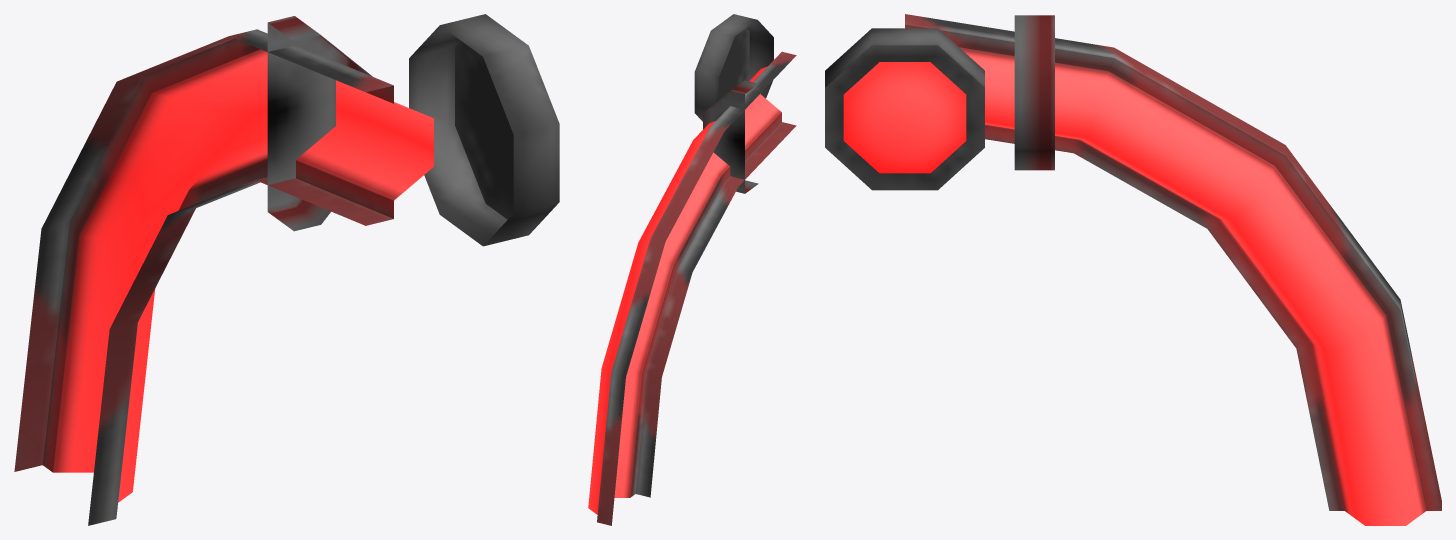
Rendered from VR_DoorLock_1.fbx.
The picture shows the model from 3 angles, left to right: view 1: azimuth 30°, elevation 25°; view 2: azimuth 150°, elevation 25°; view 3: azimuth 270°, elevation 25°; orthographic projection. The views are drawn at different scales.
Visible parts, largest first — view 1: Circle.007; view 2: Circle.007; view 3: Circle.007.
Boxes of the visible parts, box(x1,y1,x2,y2) form: Circle.007: box(14, 14, 559, 525); Circle.007: box(588, 14, 796, 525); Circle.007: box(825, 14, 1441, 525).
Bounding box in the file's own units: 0.2867 × 1.17 × 1.28.
